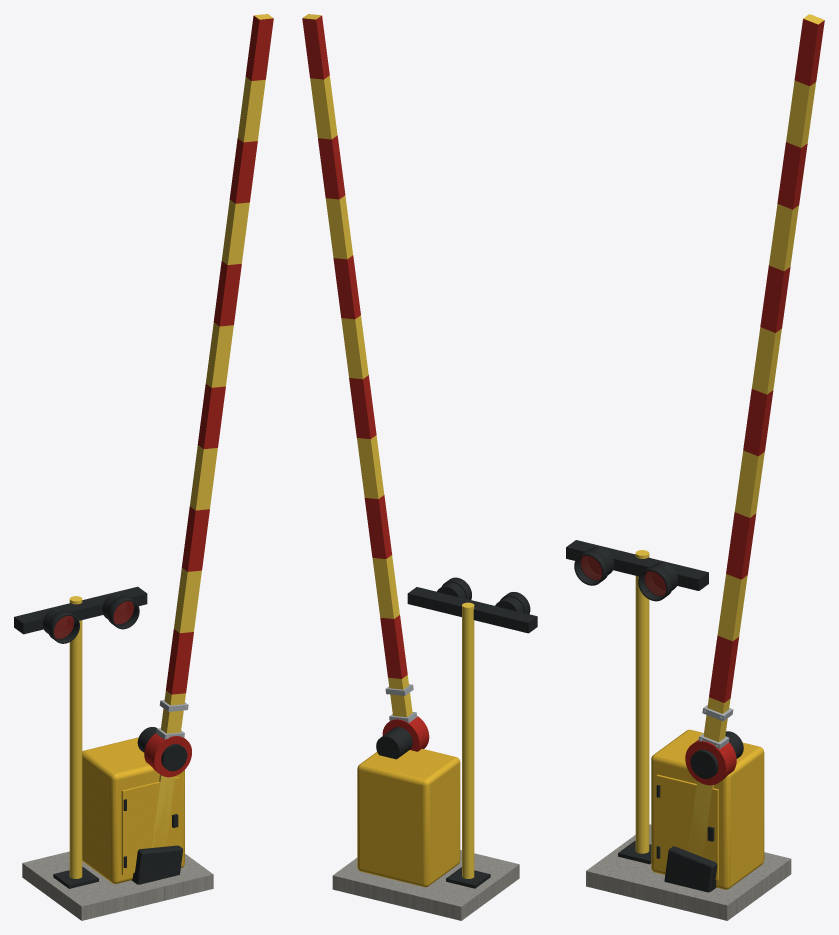
The model's file is crossing.glb.
3 views of the same model, side by side, from view 1: azimuth 30°, elevation 25°; view 2: azimuth 150°, elevation 25°; view 3: azimuth 330°, elevation 25° (orthographic). The views are drawn at different scales.
Parts seen in each view (by area): view 1: Barrier six metre finite white arm, Barrier closed motor cabinet, Barrier integral concrete equipment footing, Barrier separate seated service door, Barrier warning signal mast, Barrier signal rear mounting bar, Barrier mounted counterweight, Barrier seated red paint band 3, Barrier seated red paint band 5, Barrier seated red paint band 7, Barrier seated red paint band 9, Barrier seated red paint band 1 (+6 smaller); view 2: Barrier closed motor cabinet, Barrier six metre finite white arm, Barrier integral concrete equipment footing, Barrier warning signal mast, Barrier signal rear mounting bar, Barrier seated red paint band 11, Barrier seated red paint band 7, Barrier seated red paint band 9, Barrier seated red paint band 1, Barrier seated red paint band 3, Barrier seated red paint band 5, Barrier seated pivot shaft (+2 smaller); view 3: Barrier six metre finite white arm, Barrier closed motor cabinet, Barrier integral concrete equipment footing, Barrier separate seated service door, Barrier warning signal mast, Barrier signal rear mounting bar, Barrier mounted counterweight, Barrier seated red paint band 5, Barrier seated red paint band 7, Barrier seated red paint band 9, Barrier seated red paint band 3, Barrier seated red paint band 11 (+8 smaller).
Boxes of the visible parts, bbox=[...] form: Barrier six metre finite white arm: bbox=[161, 14, 272, 733]; Barrier closed motor cabinet: bbox=[82, 737, 184, 883]; Barrier integral concrete equipment footing: bbox=[22, 851, 213, 920]; Barrier separate seated service door: bbox=[121, 777, 179, 875]; Barrier warning signal mast: bbox=[69, 596, 82, 878]; Barrier signal rear mounting bar: bbox=[14, 586, 147, 634]; Barrier mounted counterweight: bbox=[131, 845, 182, 884]; Barrier seated red paint band 3: bbox=[181, 506, 209, 571]; Barrier seated red paint band 5: bbox=[197, 384, 225, 449]; Barrier seated red paint band 7: bbox=[213, 261, 241, 326]; Barrier seated red paint band 9: bbox=[229, 138, 257, 203]; Barrier seated red paint band 1: bbox=[166, 629, 193, 694]; Barrier closed motor cabinet: bbox=[357, 748, 460, 887]; Barrier six metre finite white arm: bbox=[302, 14, 412, 716]; Barrier integral concrete equipment footing: bbox=[332, 850, 519, 920]; Barrier warning signal mast: bbox=[462, 602, 474, 878]; Barrier signal rear mounting bar: bbox=[407, 587, 537, 633]; Barrier seated red paint band 11: bbox=[302, 15, 329, 79]; Barrier seated red paint band 7: bbox=[333, 255, 360, 319]; Barrier seated red paint band 9: bbox=[318, 135, 345, 199]; Barrier seated red paint band 1: bbox=[380, 615, 407, 678]; Barrier seated red paint band 3: bbox=[364, 495, 392, 558]; Barrier seated red paint band 5: bbox=[349, 375, 376, 439]; Barrier seated pivot shaft: bbox=[376, 727, 412, 759]; Barrier six metre finite white arm: bbox=[703, 14, 824, 742]; Barrier closed motor cabinet: bbox=[651, 729, 764, 889]; Barrier integral concrete equipment footing: bbox=[586, 824, 791, 920]; Barrier separate seated service door: bbox=[656, 774, 718, 880]; Barrier warning signal mast: bbox=[635, 550, 649, 853]; Barrier signal rear mounting bar: bbox=[566, 540, 708, 590]; Barrier mounted counterweight: bbox=[664, 846, 717, 892]; Barrier seated red paint band 5: bbox=[743, 389, 773, 456]; Barrier seated red paint band 7: bbox=[760, 265, 790, 332]; Barrier seated red paint band 9: bbox=[777, 142, 807, 209]; Barrier seated red paint band 3: bbox=[726, 512, 756, 579]; Barrier seated red paint band 11: bbox=[794, 19, 824, 86].
Bounding box in the file's own units: 2.12 × 7.07 × 0.9.
8 materials, 7 textured.
